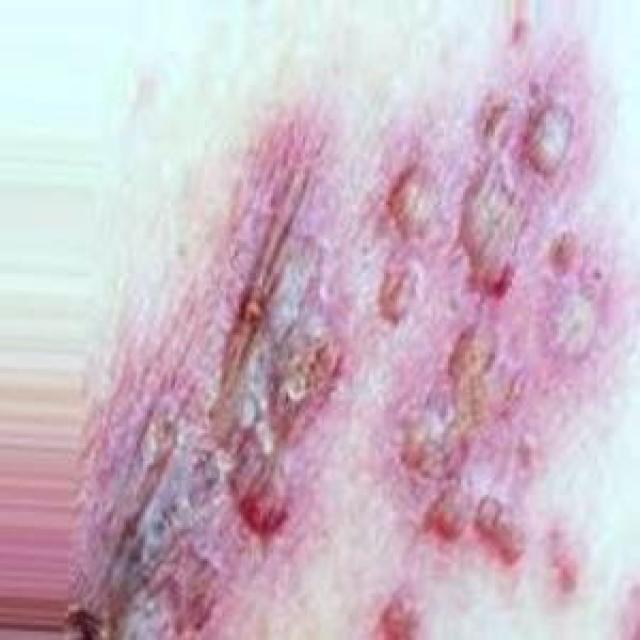Shingles: (116, 95, 586, 627)
